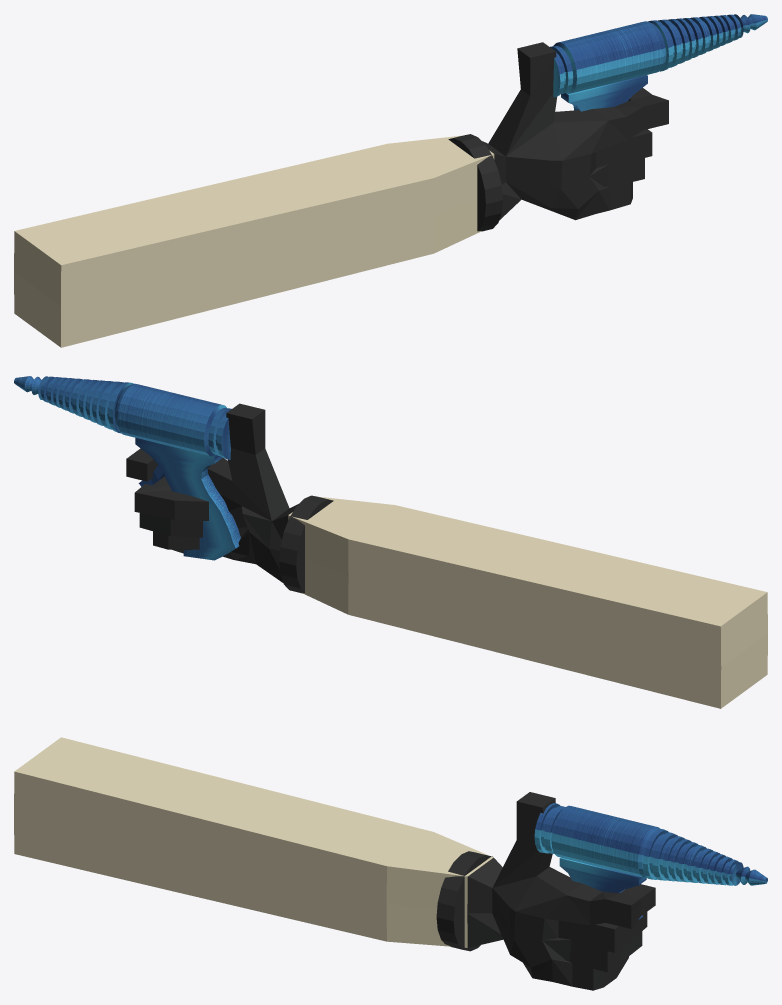
File: Handgun.fbx
3 renders of one model, top to bottom at view 1: azimuth 30°, elevation 25°; view 2: azimuth 150°, elevation 25°; view 3: azimuth 330°, elevation 25°, orthographic.
Parts seen in each view (by area): view 1: pCube3; view 2: pCube3; view 3: pCube3.
Part boxes in pixels (x1,y1,x2,y2): pCube3: (14, 14, 767, 347); pCube3: (14, 376, 767, 708); pCube3: (14, 737, 767, 990).
Size of the model in its own units: 32.24 by 6.87 by 3.78.
3 materials, 1 textured.
